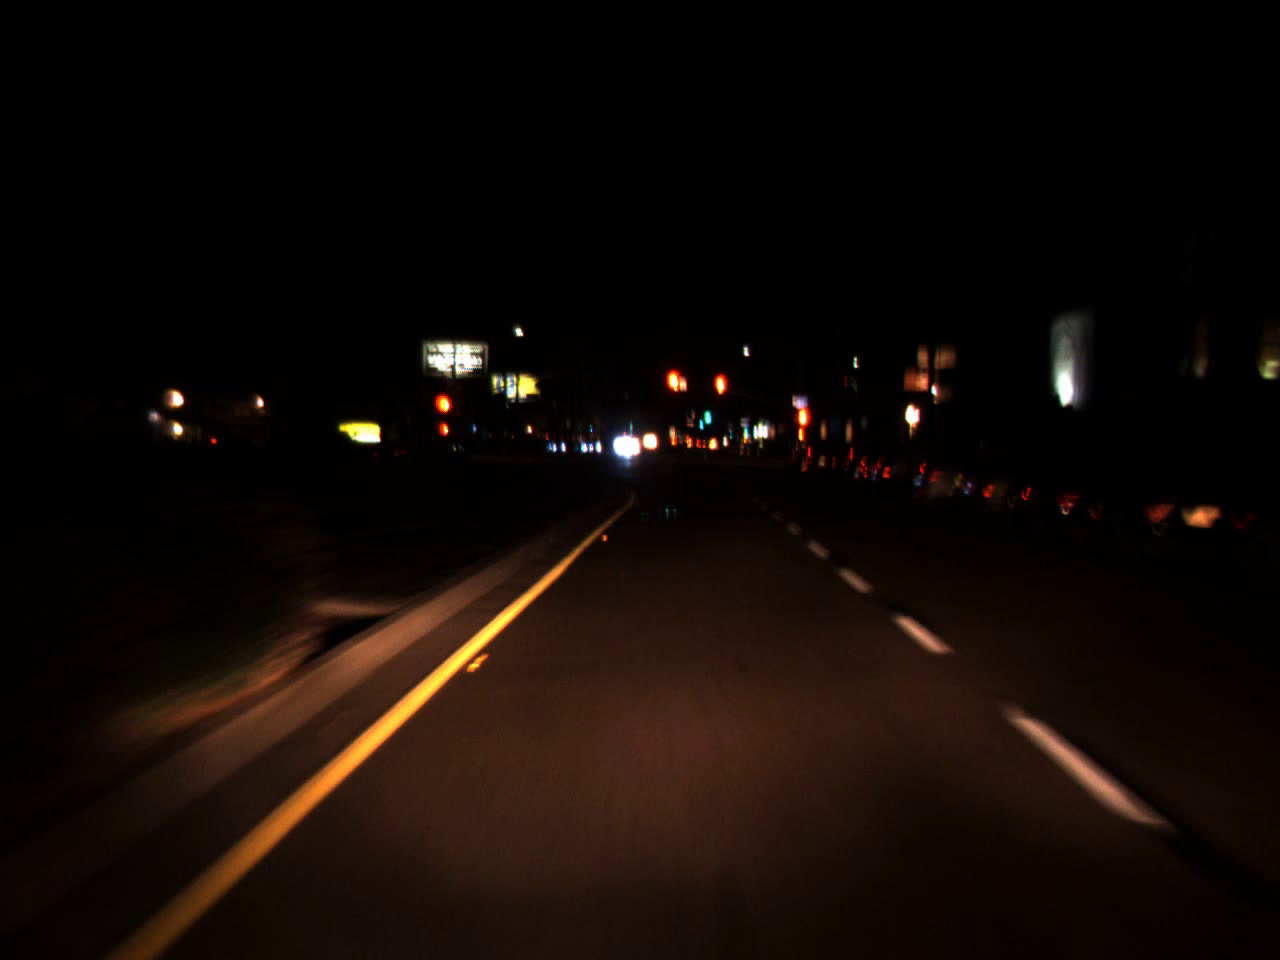go: (703, 394, 712, 430), (739, 415, 749, 436), (697, 410, 703, 431), (726, 428, 736, 440)
stop: (662, 366, 687, 419), (432, 392, 456, 435), (712, 370, 728, 421), (796, 407, 811, 442)
